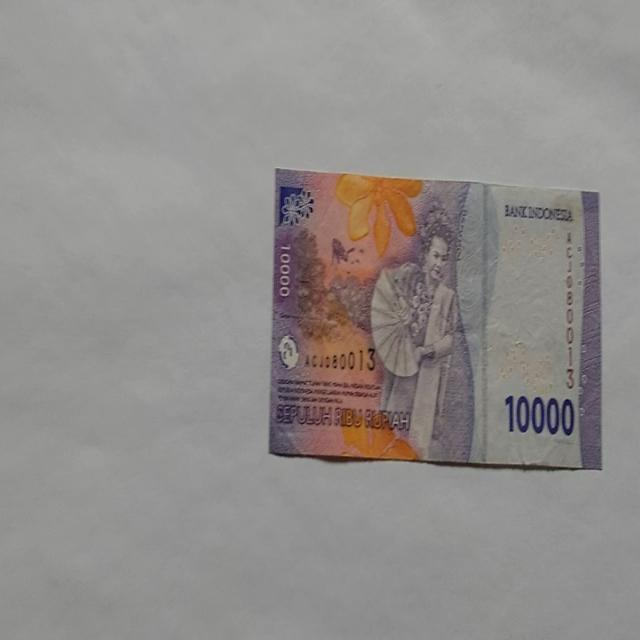sepuluh ribu rupiah: (268, 166, 602, 470)
